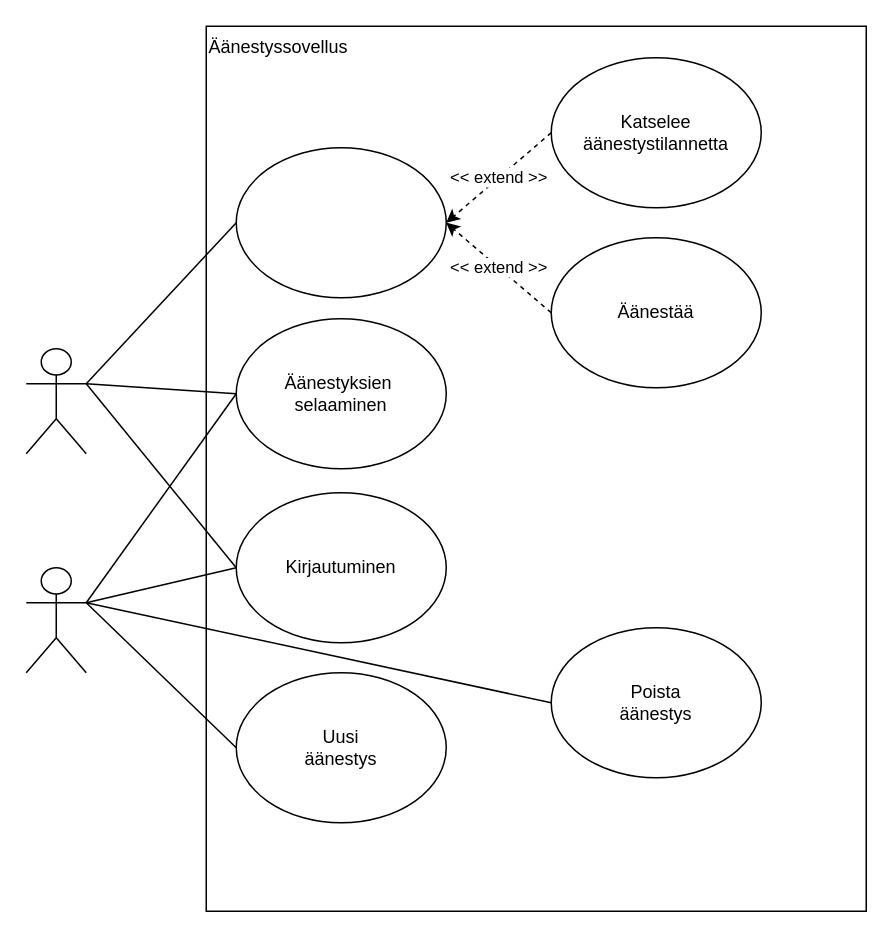
This 893x938 diagram has some shape labels left out. Each missing label, with the centre of its shape:
"admin" goes at (x=55, y=619).
"user" goes at (x=55, y=400).
"Äänestyksen valinta" goes at (x=340, y=222).
